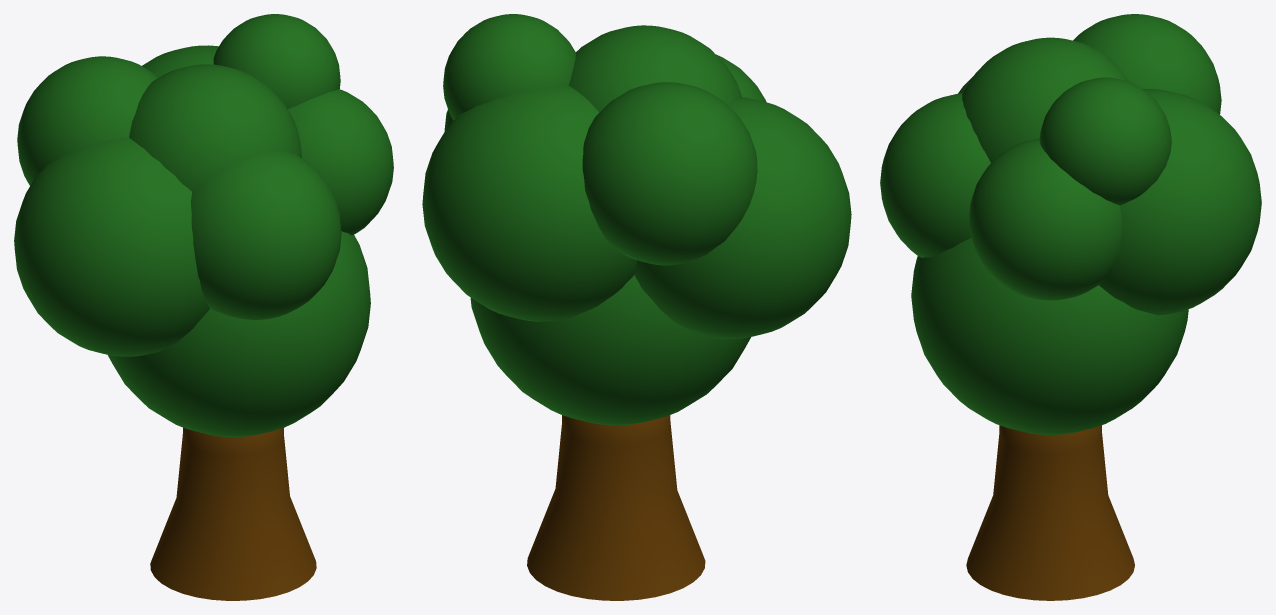
Rendered from Tree1.fbx.
3 renders of one model, left to right at view 1: azimuth 30°, elevation 25°; view 2: azimuth 150°, elevation 25°; view 3: azimuth 270°, elevation 25°, orthographic. The views are drawn at different scales.
Visible parts, largest first — view 1: Sphere.003, Sphere, Tree1, Sphere.004, Sphere.001, Sphere.007, Sphere.002, Sphere.006, Sphere.005; view 2: Sphere.005, Sphere.003, Sphere.007, Tree1, Sphere, Sphere.006, Sphere.001, Sphere.004; view 3: Sphere, Sphere.005, Tree1, Sphere.002, Sphere.004, Sphere.006, Sphere.001, Sphere.007.
Part boxes in pixels (x1,y1,x2,y2): Sphere.003: (14,137,209,356); Sphere: (108,231,370,437); Tree1: (150,427,316,600); Sphere.004: (191,150,341,319); Sphere.001: (129,64,301,191); Sphere.007: (17,56,158,185); Sphere.002: (287,89,393,235); Sphere.006: (213,14,340,109); Sphere.005: (142,45,218,77); Sphere.005: (422,85,636,321); Sphere.003: (634,97,851,338); Sphere.007: (582,82,757,265); Tree1: (527,415,705,600); Sphere: (470,275,750,425); Sphere.006: (443,14,575,120); Sphere.001: (568,25,741,112); Sphere.004: (716,54,766,102); Sphere: (911,237,1188,434); Sphere.005: (1099,89,1261,315); Tree1: (966,425,1134,600); Sphere.002: (969,138,1121,300); Sphere.004: (880,93,990,257); Sphere.006: (1039,77,1171,205); Sphere.001: (962,37,1129,162); Sphere.007: (1073,14,1221,114).
Size of the model in its own units: 567 by 779 by 523.
